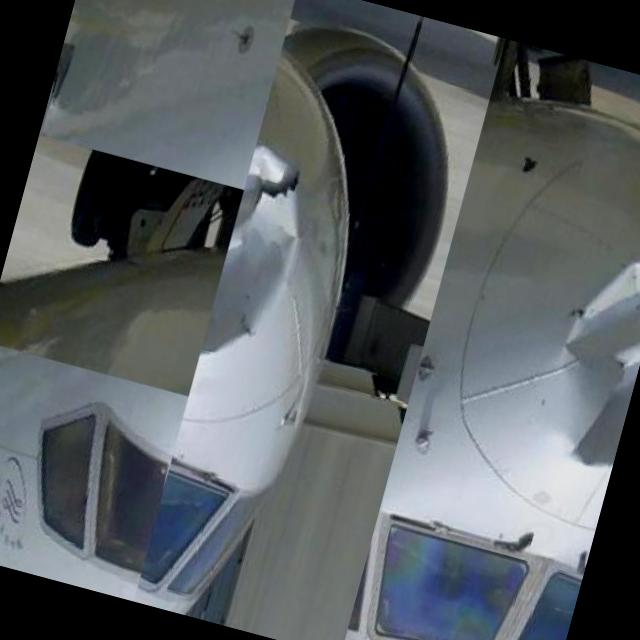dent: (199, 138, 323, 372), (533, 238, 640, 476)
